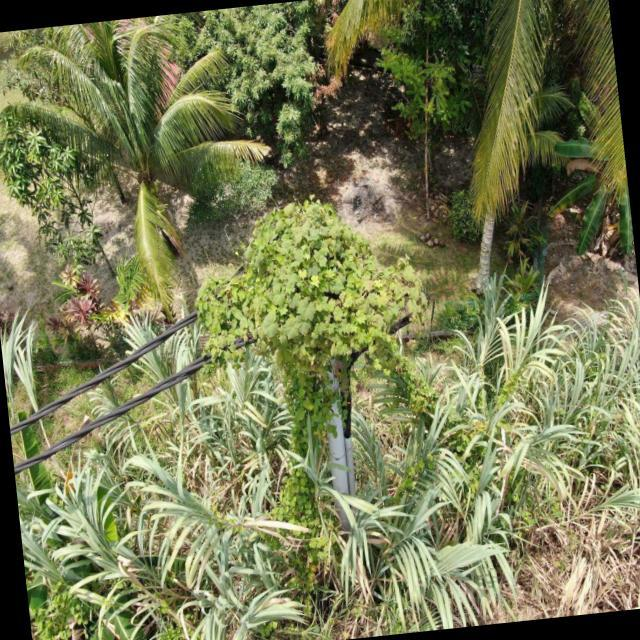critical vegetation: (187, 183, 442, 526)
